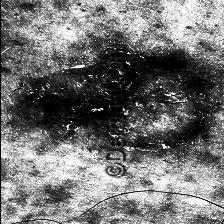Potentially Malignant Skin Tumors: (20, 46, 108, 148)
